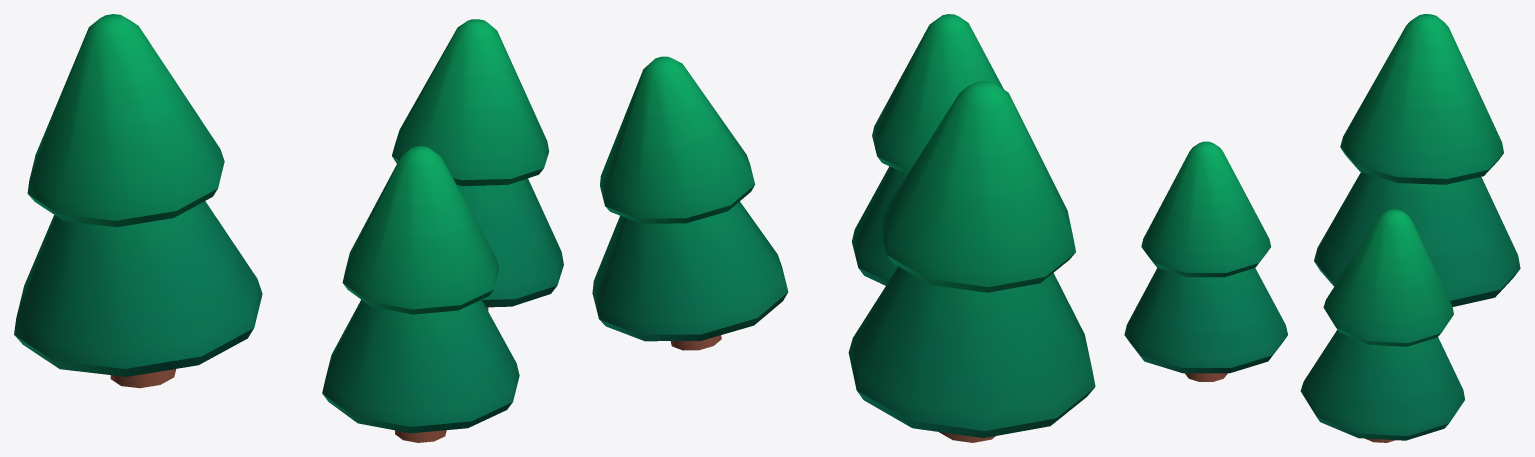
File: trees_B_small.glb
3 renders of one model, left to right at view 1: azimuth 30°, elevation 25°; view 2: azimuth 150°, elevation 25°; view 3: azimuth 270°, elevation 25°, orthographic. The views are drawn at different scales.
Parts seen in each view (by area): view 1: trees_B_small; view 2: trees_B_small; view 3: trees_B_small.
Part boxes in pixels (<box>): trees_B_small: <box>14,14,563,442</box>; trees_B_small: <box>592,14,1095,442</box>; trees_B_small: <box>1124,14,1520,442</box>.
Size of the model in its own units: 1.33 by 0.9219 by 1.14.
1 material, 1 textured.
